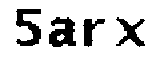5: (11, 5, 46, 50)
a: (45, 16, 78, 51)
r: (80, 14, 110, 53)
x: (114, 14, 150, 50)
